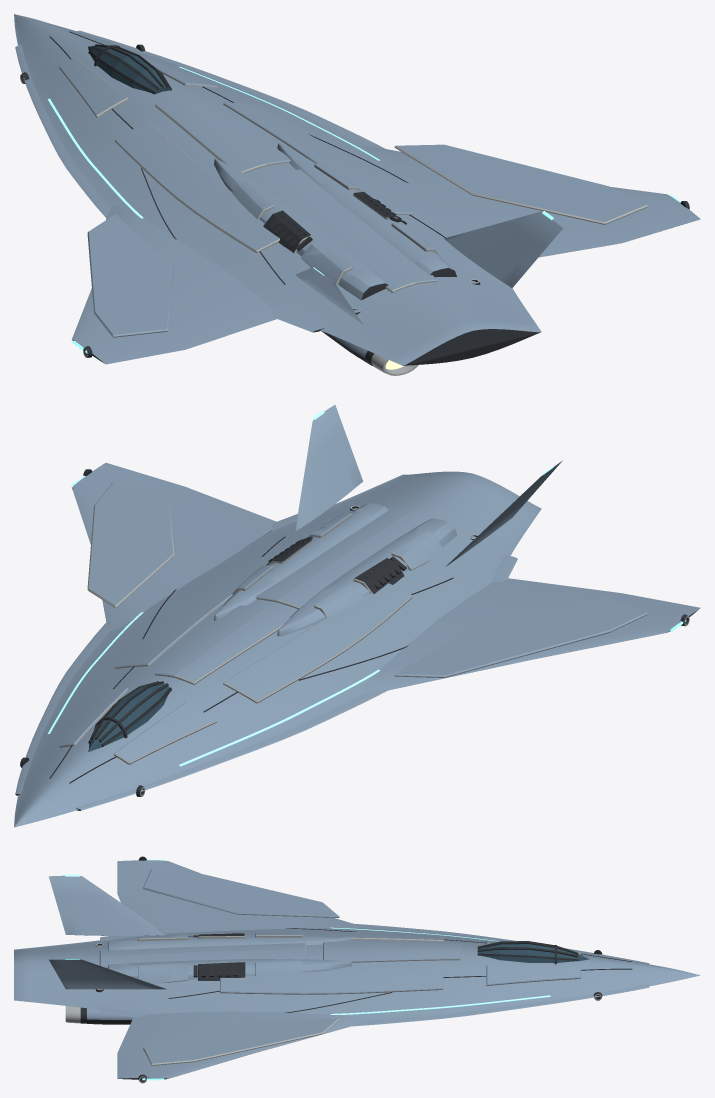
Rendered from swift.glb.
The picture shows the model from 3 angles, top to bottom: view 1: azimuth 30°, elevation 25°; view 2: azimuth 150°, elevation 25°; view 3: azimuth 270°, elevation 25°; orthographic projection. The views are drawn at different scales.
Parts seen in each view (by area): view 1: Hull_Swift; view 2: Hull_Swift; view 3: Hull_Swift.
Boxes of the visible parts, x1,y1,x2,y2 form: Hull_Swift: [14, 14, 700, 375]; Hull_Swift: [14, 404, 700, 827]; Hull_Swift: [14, 856, 700, 1083].
Size of the model in its own units: 60.59 by 11.86 by 80.
